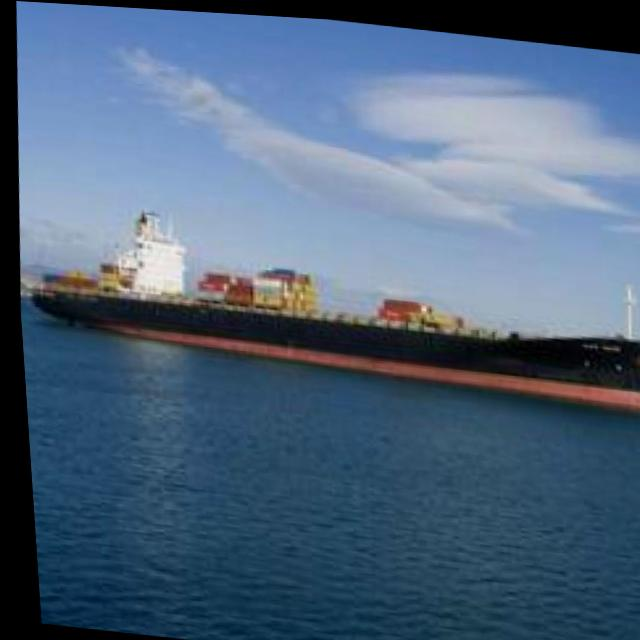ship2: (28, 211, 640, 407)
